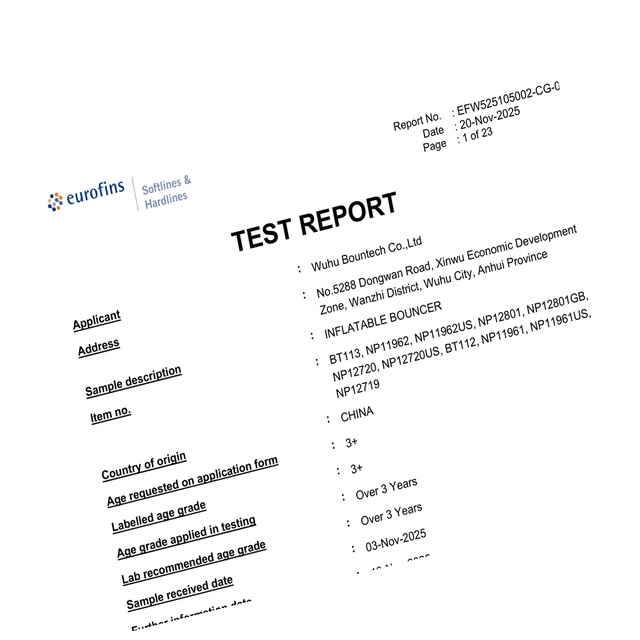eurofins: (42, 175, 133, 220)
